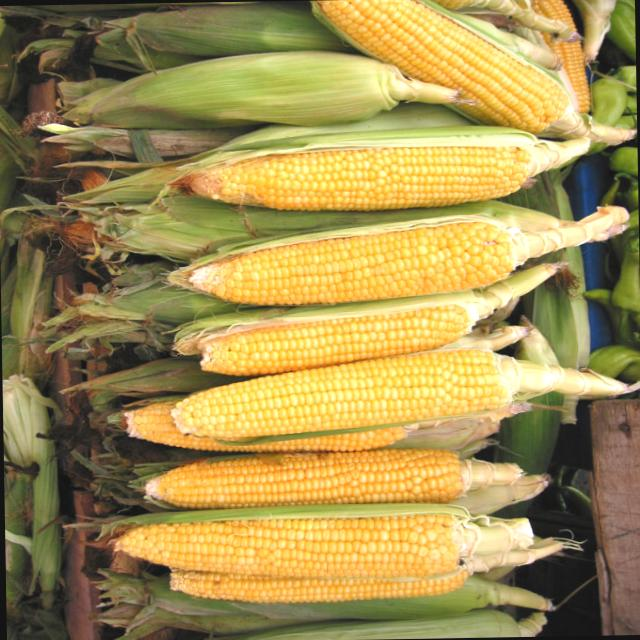corn: (162, 326, 568, 448), (104, 494, 529, 610), (180, 206, 602, 310), (182, 118, 569, 213), (134, 436, 526, 524), (195, 278, 512, 384)
